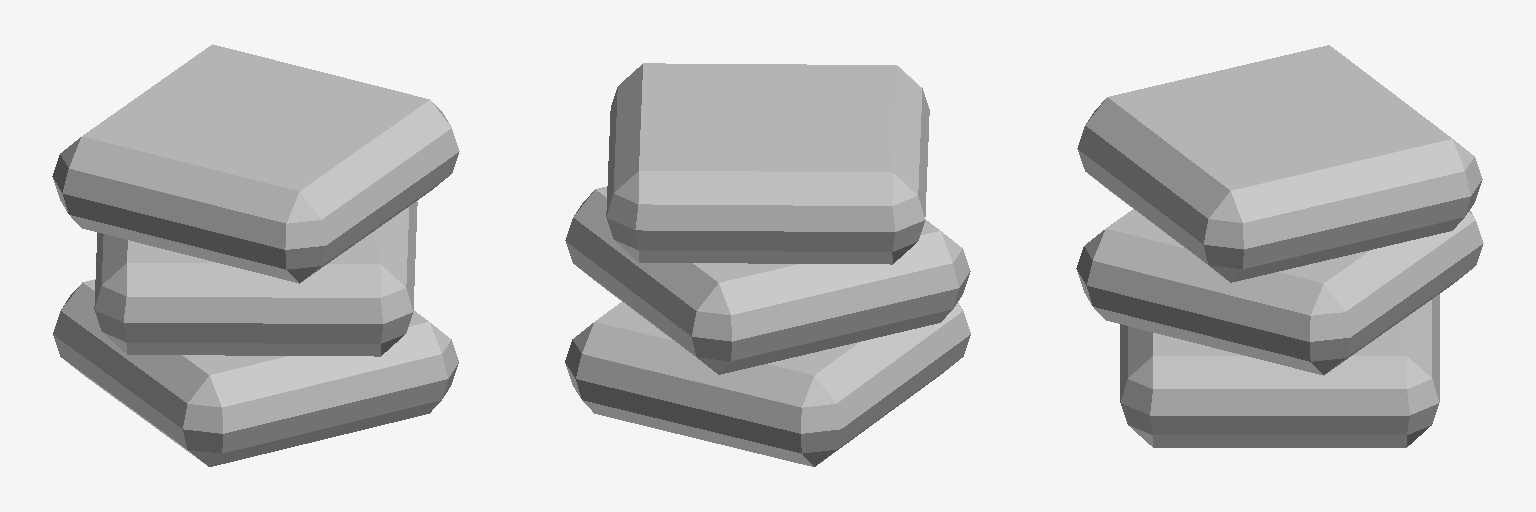
File: towel_stacked.obj
3 renders of one model, left to right at view 1: azimuth 30°, elevation 25°; view 2: azimuth 150°, elevation 25°; view 3: azimuth 270°, elevation 25°, orthographic.
Parts seen in each view (by area): view 1: towel_stacked; view 2: towel_stacked; view 3: towel_stacked.
Part boxes in pixels (x1,y1,x2,y2): towel_stacked: (52, 44, 459, 466); towel_stacked: (565, 63, 970, 466); towel_stacked: (1076, 45, 1483, 447).
Size of the model in its own units: 0.802 by 0.6 by 0.802.